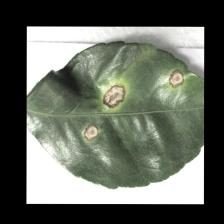canker: (54, 56, 194, 145)
